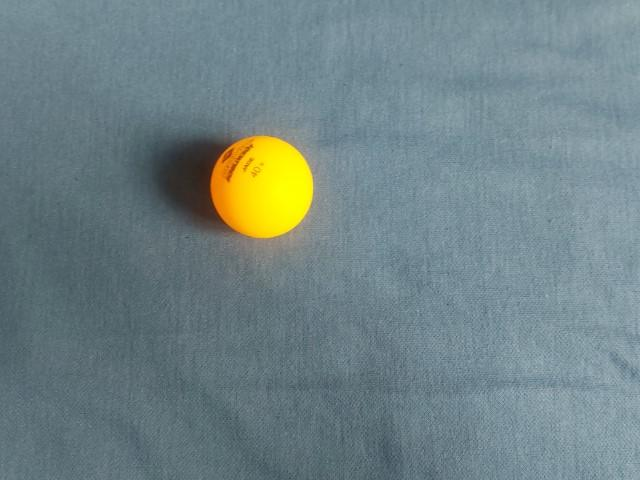oball: (322, 239, 433, 348)
